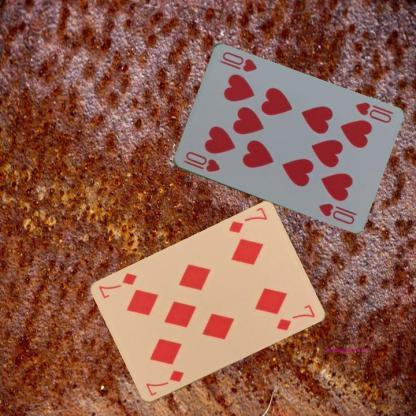10h: (180, 148, 222, 174), (352, 100, 392, 124)
7d: (142, 368, 186, 398), (225, 205, 269, 235)
